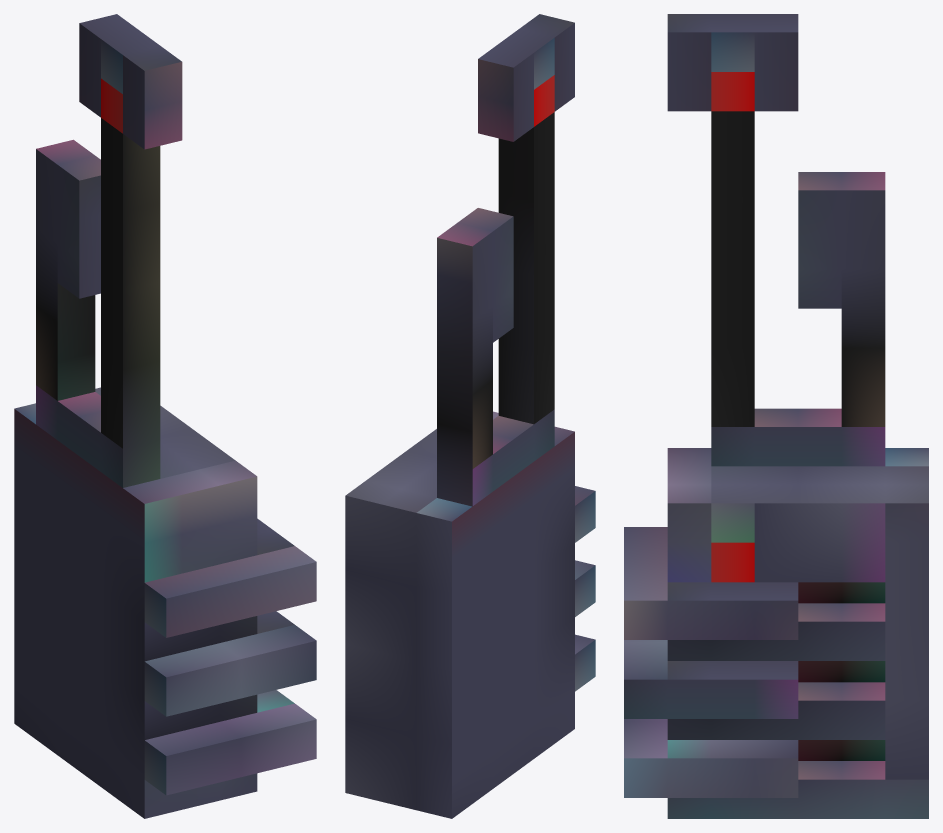
The model's file is Device_A_00.fbx.
The picture shows the model from 3 angles, left to right: view 1: azimuth 30°, elevation 25°; view 2: azimuth 150°, elevation 25°; view 3: azimuth 270°, elevation 25°; orthographic projection. The views are drawn at different scales.
Visible parts, largest first — view 1: Device_A_00; view 2: Device_A_00; view 3: Device_A_00.
Part boxes in pixels (left/top/right/bottom): Device_A_00: left=14, top=14, right=316, bottom=818; Device_A_00: left=345, top=14, right=595, bottom=818; Device_A_00: left=624, top=14, right=928, bottom=818.
Bounding box in the file's own units: 20 × 95 × 35.
